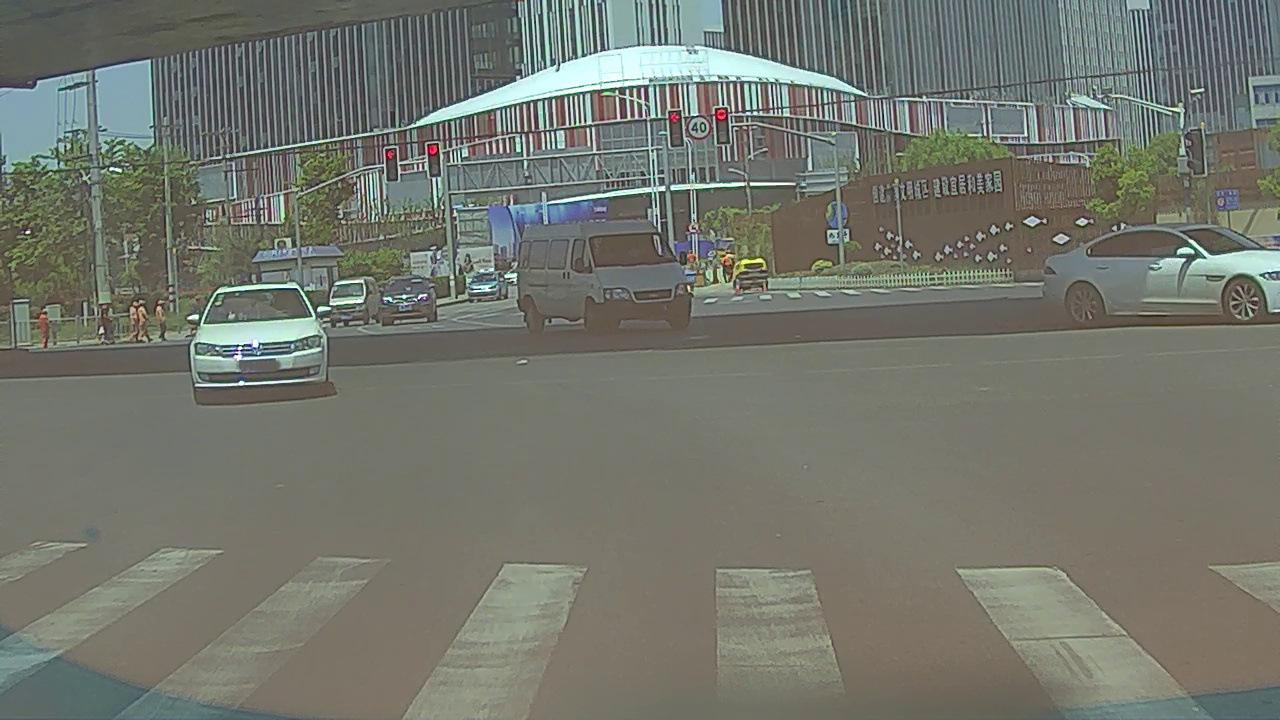traffic_light: (668, 110, 683, 148), (715, 107, 730, 144), (385, 148, 398, 182), (427, 142, 440, 176)
